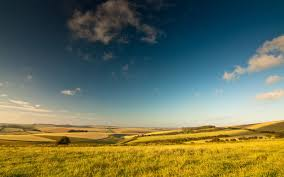field: (3, 123, 284, 174)
sky: (1, 3, 281, 124)
